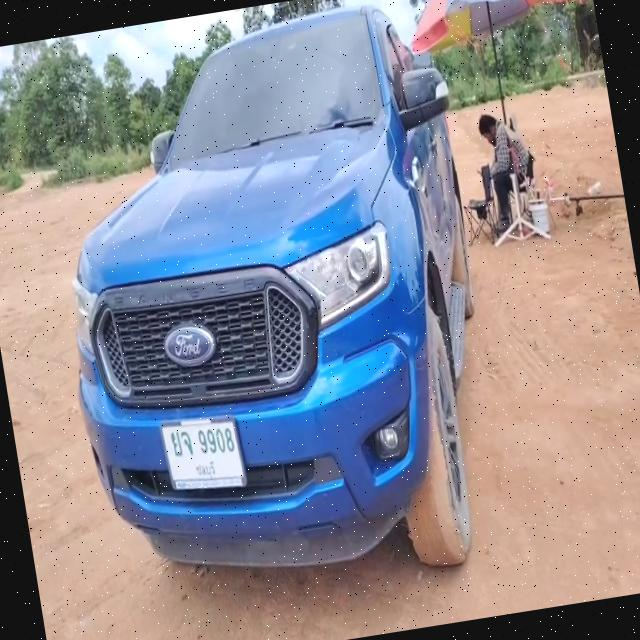Digit: (195, 427, 236, 454)
Licenseplate: (160, 419, 246, 489)
Provincename: (194, 458, 218, 479)
Thaichar: (169, 431, 194, 457)
